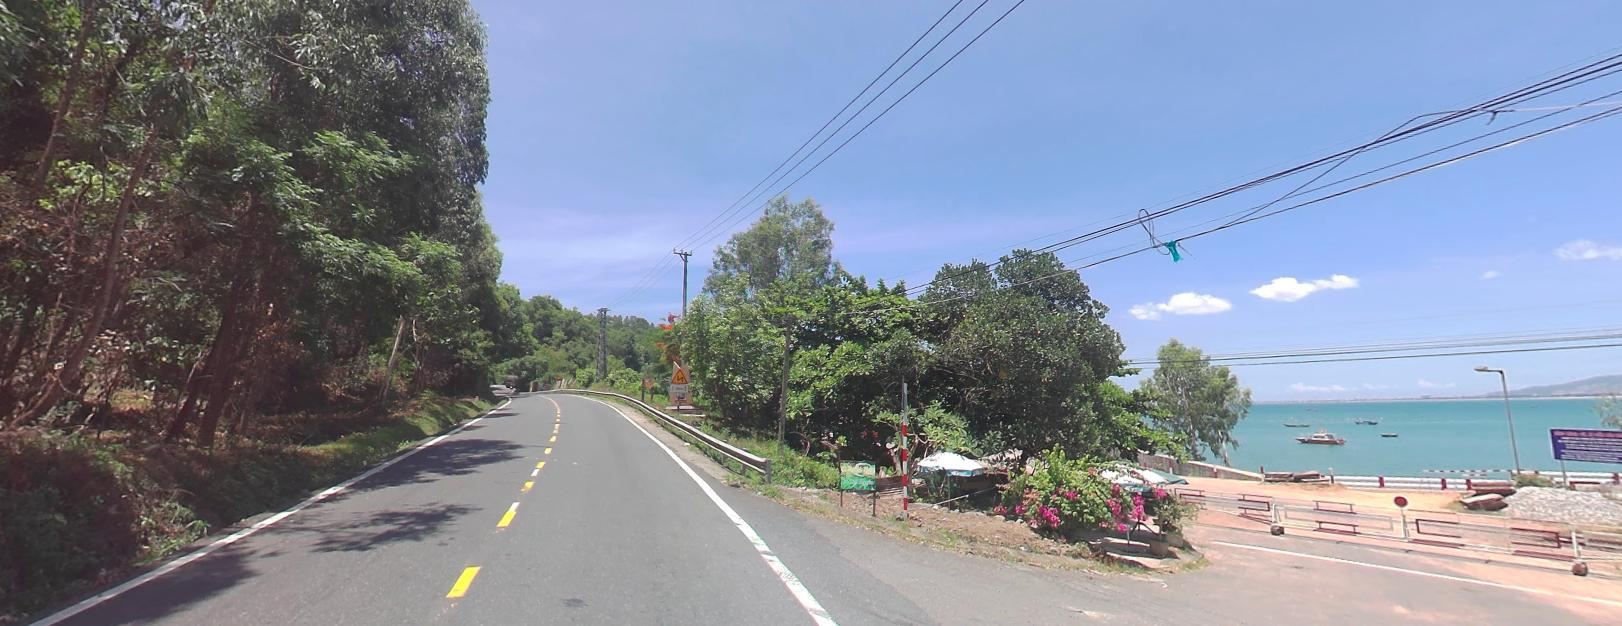Nguy hiem: (668, 366, 688, 383)
